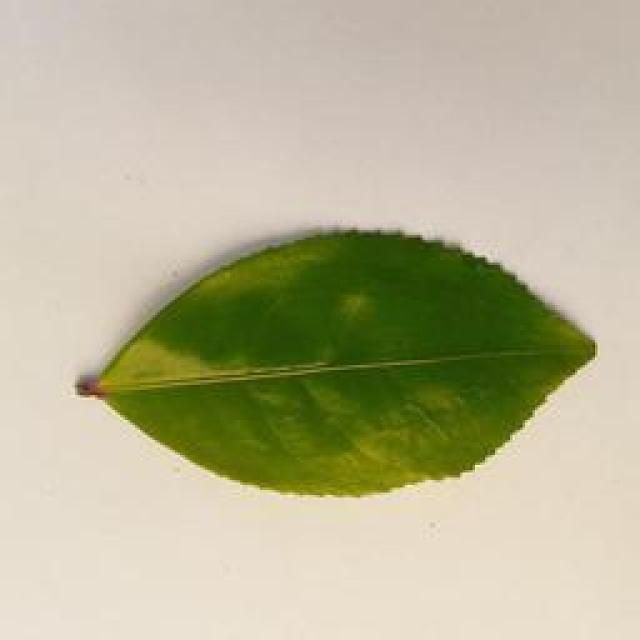Healthy: (68, 224, 600, 497)
